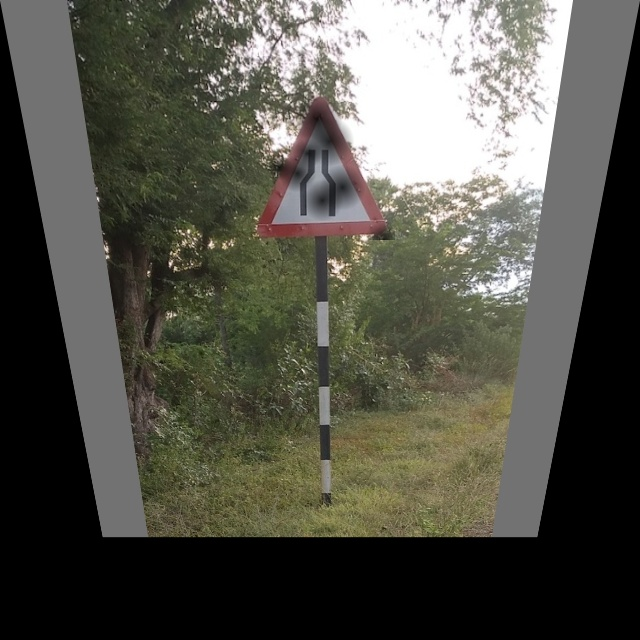Narrow_Road_Ahead: (245, 93, 395, 240)
